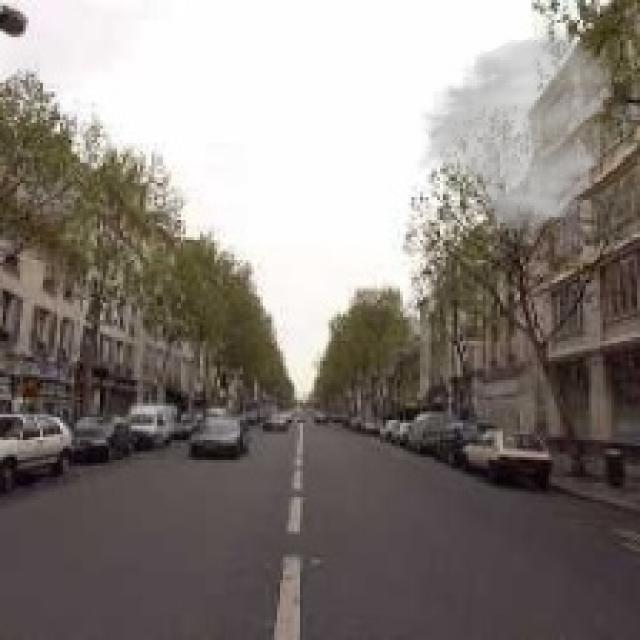Smoke: (414, 28, 617, 235)
